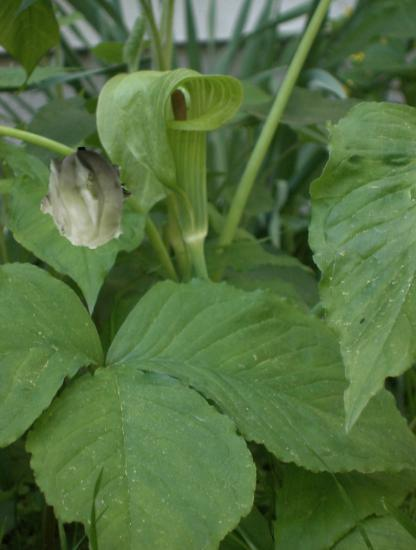Kohlrabi: (36, 147, 138, 249)
